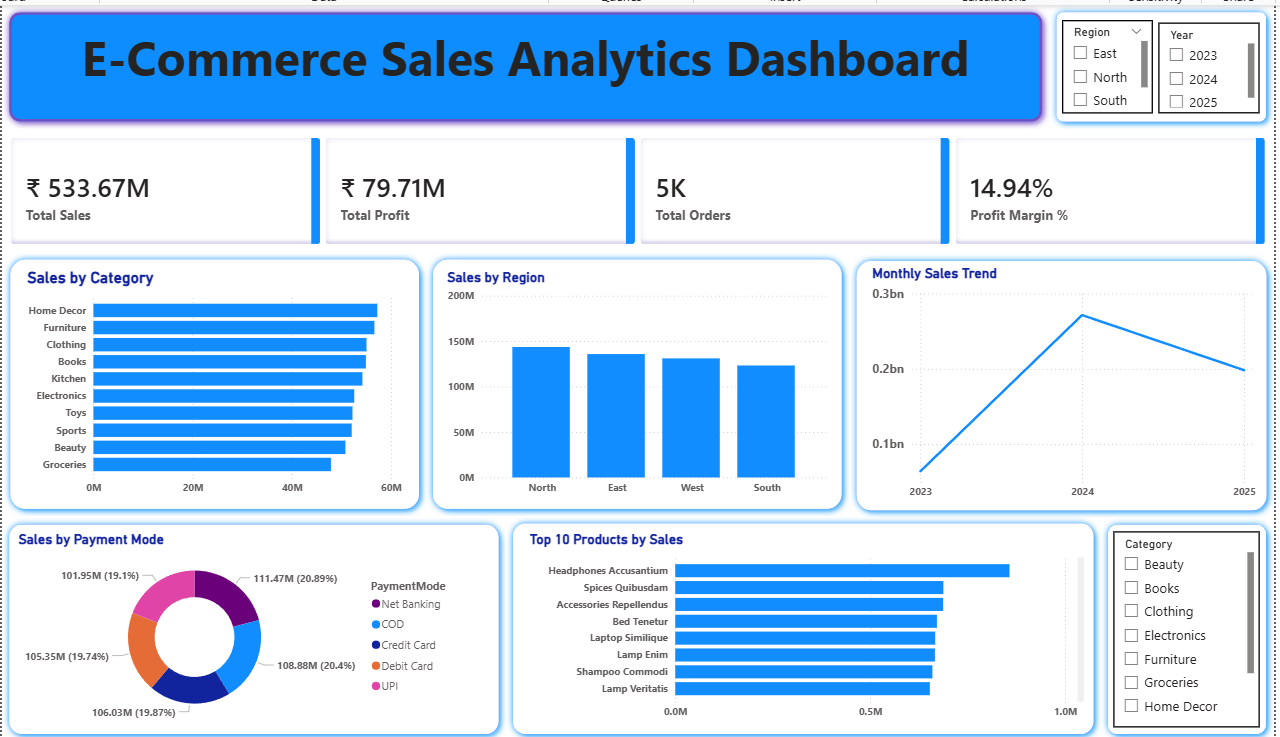

The dashboard page shown, as its layout file describes it:
{"tool":"powerbi","page":{"name":"Dashboard","canvas":[1555,900],"ordinal":0},"visuals":[{"type":"shape","box":[1343.6,626.7,210.9,273.6],"z":0},{"type":"shape","box":[1280.9,0,273.6,151.3],"z":1000},{"type":"shape","box":[616,625.2,727.6,275.1],"z":2000},{"type":"shape","box":[0,626.7,616,273.6],"z":3000},{"type":"shape","box":[1036.3,303.8,518.9,322.7],"z":4000},{"type":"shape","box":[1.4,303.3,517.3,322.5],"z":5000},{"type":"cardVisual","fields":{"Data":["dim_customer.Total Sales","dim_customer.Total Profit","dim_customer.Total Orders","dim_customer.Profit Margin %"]},"box":[0,151.1,1555.3,152.6],"z":6000},{"type":"shape","box":[0,0,1280.9,151.3],"z":7000},{"type":"textbox","box":[34.3,17.8,1213,105.7],"z":8000},{"type":"clusteredBarChart","title":"Sales by Category","fields":{"Category":["dim_product.Category"],"Y":["dim_customer.Total Sales"]},"box":[26.1,322.5,467.9,285.4],"z":9000},{"type":"shape","box":[518.7,303.3,517.3,322.5],"z":10000},{"type":"clusteredColumnChart","title":"Sales by Region","fields":{"Category":["dim_location.Region"],"Y":["dim_customer.Total Sales"]},"box":[539.3,322.5,474.8,285.4],"z":11000},{"type":"lineChart","title":"Monthly Sales Trend","fields":{"Category":["dim_date.OrderDate.Variation.Date Hierarchy.Year","dim_date.OrderDate.Variation.Date Hierarchy.Month"],"Y":["dim_customer.Total Sales"]},"box":[1059.5,317.8,478.9,295.2],"z":12000},{"type":"donutChart","title":"Sales by Payment Mode","fields":{"Category":["dim_payment.PaymentMode"],"Y":["dim_customer.Total Sales"]},"box":[15.3,643.5,548.7,240],"z":13000},{"type":"clusteredBarChart","title":"Top 10 Products by Sales","fields":{"Category":["dim_product.ProductName"],"Y":["dim_customer.Total Sales"]},"box":[640.5,643.5,687.8,238.5],"z":14000},{"type":"slicer","fields":{"Values":["dim_location.Region"]},"box":[1296.2,18.3,111.6,114.6],"z":15000},{"type":"slicer","fields":{"Values":["dim_date.Year"]},"box":[1413.9,21.4,123.8,111.6],"z":16000},{"type":"slicer","fields":{"Values":["dim_product.Category"]},"box":[1358.9,643.5,178.8,240],"z":17000}]}

Visuals, with their boxes in screenshot pixels (x1, y1, x2, y2):
shape: 1094, 518, 1271, 736
shape: 1042, 0, 1271, 120
shape: 486, 517, 1094, 736
shape: 0, 518, 486, 736
shape: 837, 248, 1272, 518
shape: 0, 247, 404, 517
cardVisual - dim_customer.Total Sales x dim_customer.Total Profit: 0, 120, 1272, 247
shape: 0, 0, 1042, 120
textbox: 0, 8, 1014, 97
"Sales by Category" clusteredBarChart: 0, 263, 383, 502
shape: 404, 247, 837, 517
"Sales by Region" clusteredColumnChart: 421, 263, 819, 502
"Monthly Sales Trend" lineChart: 857, 259, 1257, 506
"Sales by Payment Mode" donutChart: 0, 532, 442, 733
"Top 10 Products by Sales" clusteredBarChart: 506, 532, 1082, 731
slicer - dim_location.Region: 1055, 9, 1148, 105
slicer - dim_date.Year: 1153, 11, 1257, 105
slicer - dim_product.Category: 1107, 532, 1257, 733
